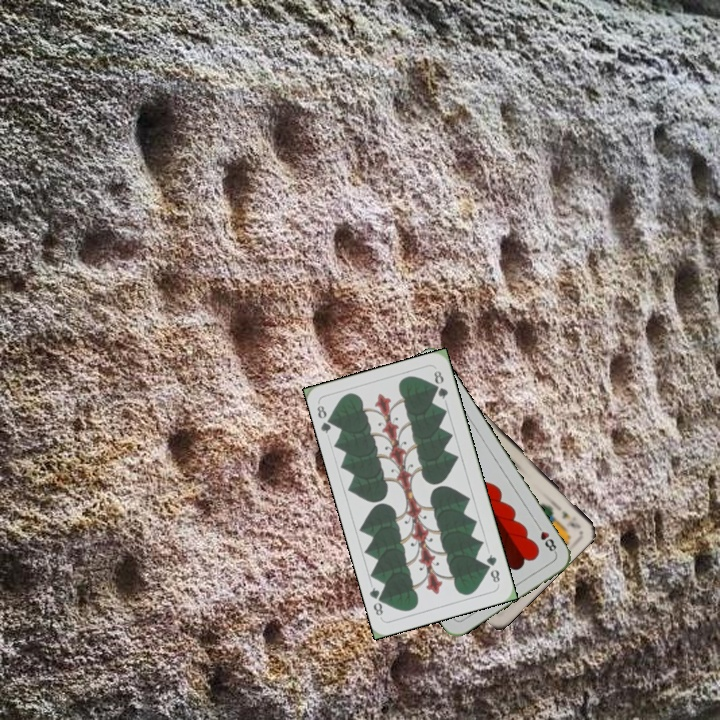EK: (557, 507, 583, 531)
G8: (313, 401, 337, 436), (482, 550, 503, 585)
H8: (532, 520, 559, 556)
